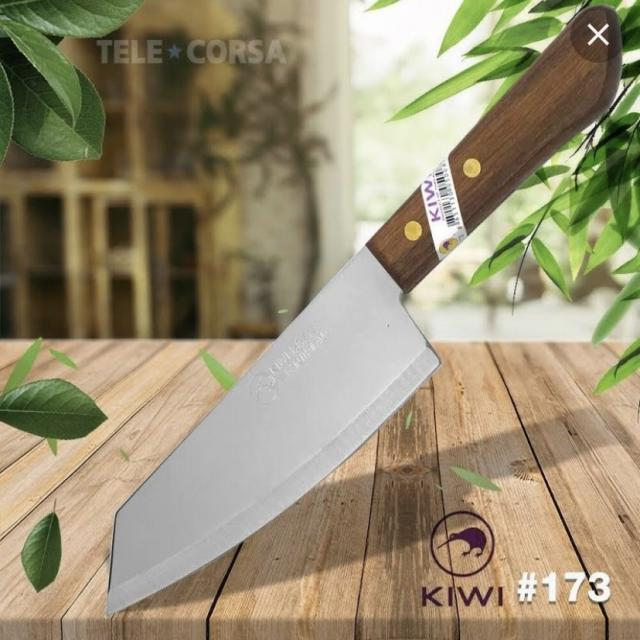Knife: (79, 3, 622, 617)
